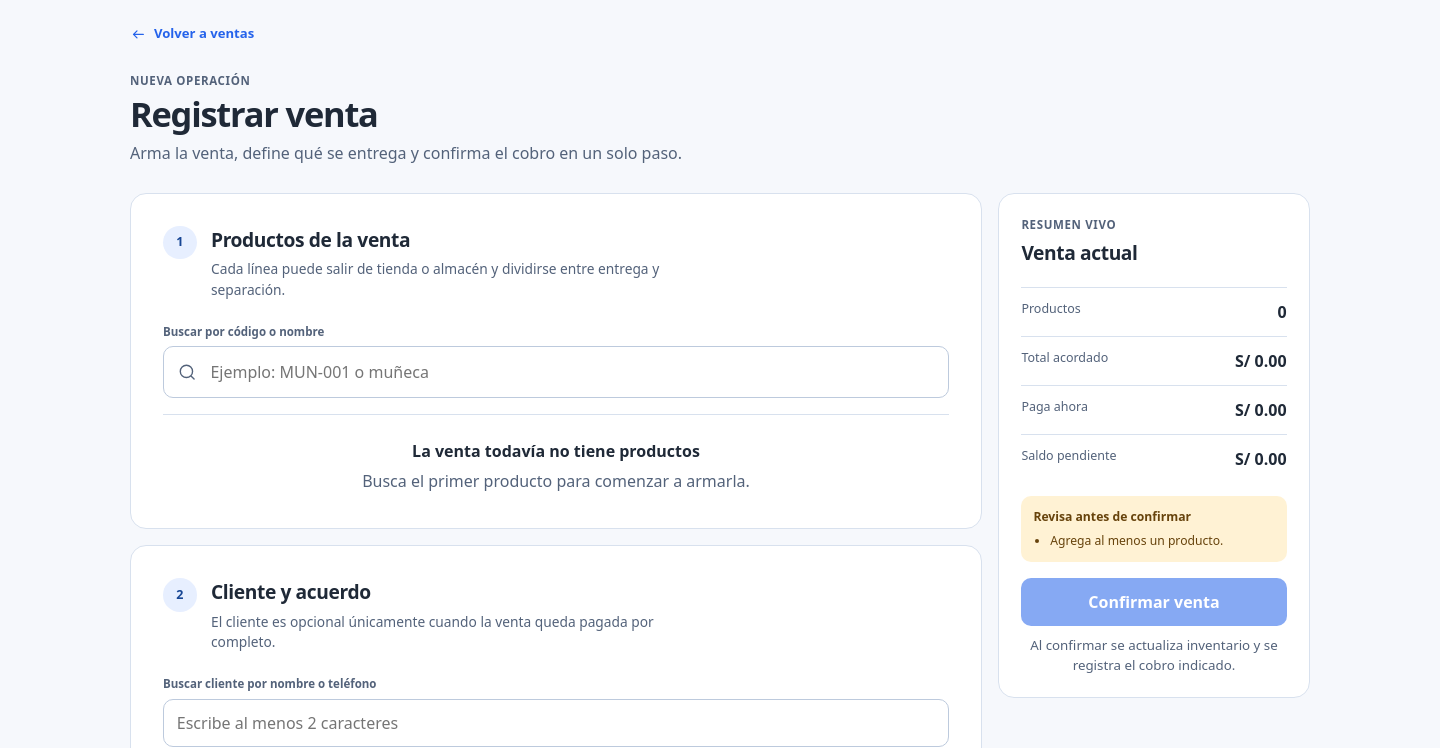
Test: sale creation › builds a multiline-ready sale and derives its live total
Type "muñeca" into the search field labelled "Buscar por código o nombre" at [572, 372], box [197,347,948,397]
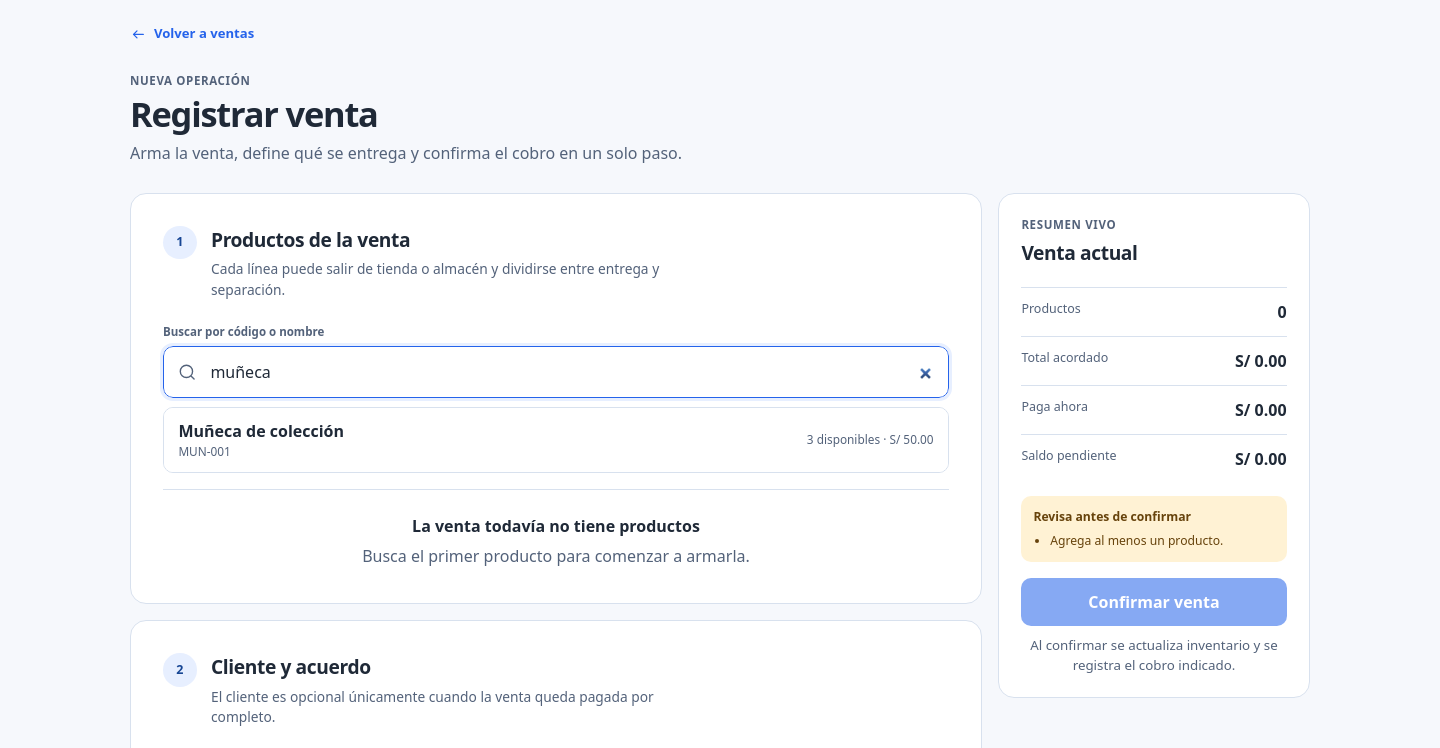
Click the button "Muñeca de colección MUN-001 3 disponibles · S/ 50.00" at [261, 431], box [164,408,948,472]
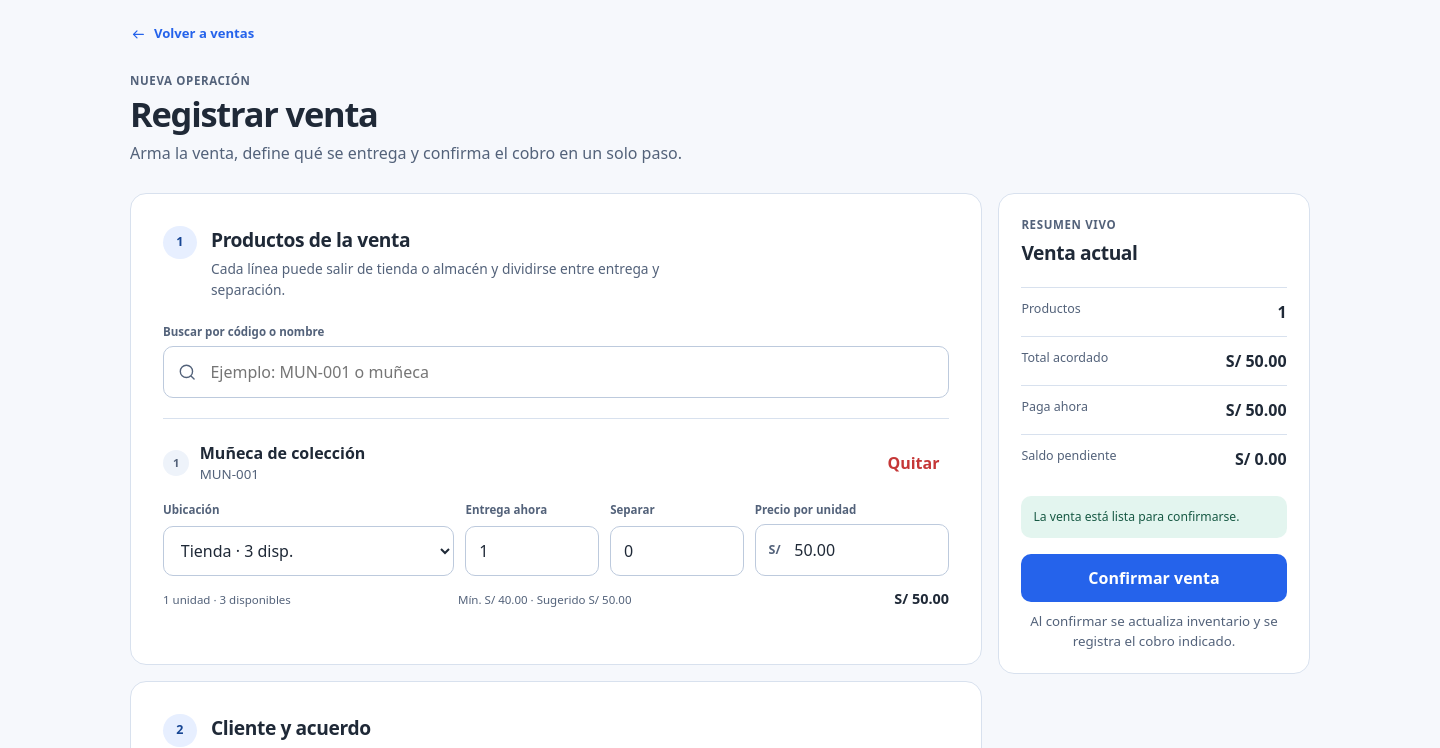
Now the text "MUN-001" is shown, box [200,465,259,483]
Now the text "1 unidad · 3 disponibles" is shown, box [163,592,291,606]
Now the text "S/ 50.00" in the row of "· Sugerido S/ 50.00" is shown, box [894,589,949,608]
